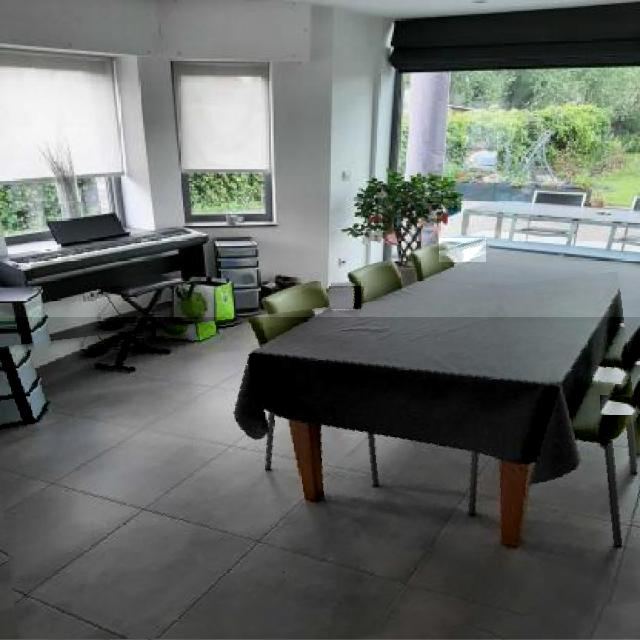floor: (0, 317, 640, 640), (440, 239, 486, 262), (330, 286, 361, 309), (601, 396, 638, 415)
